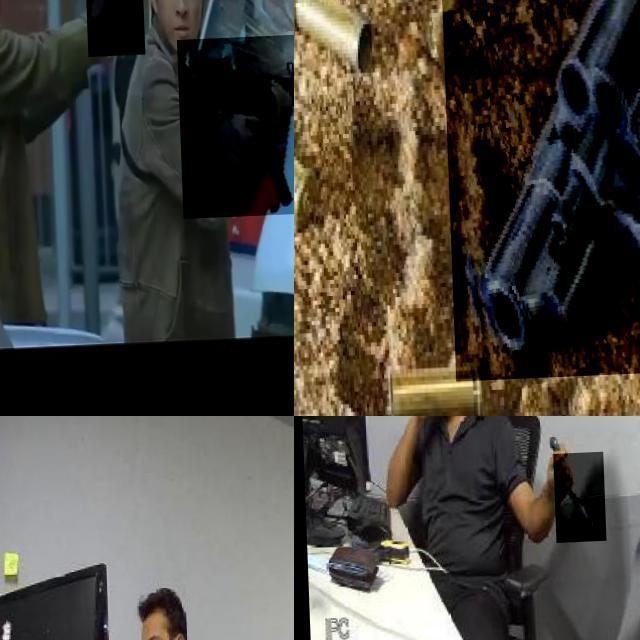-: (550, 454, 603, 546)
gun-knife-thesis - v11 Yolov5 augmented: (441, 0, 640, 384), (174, 38, 294, 222), (83, 0, 143, 59)
